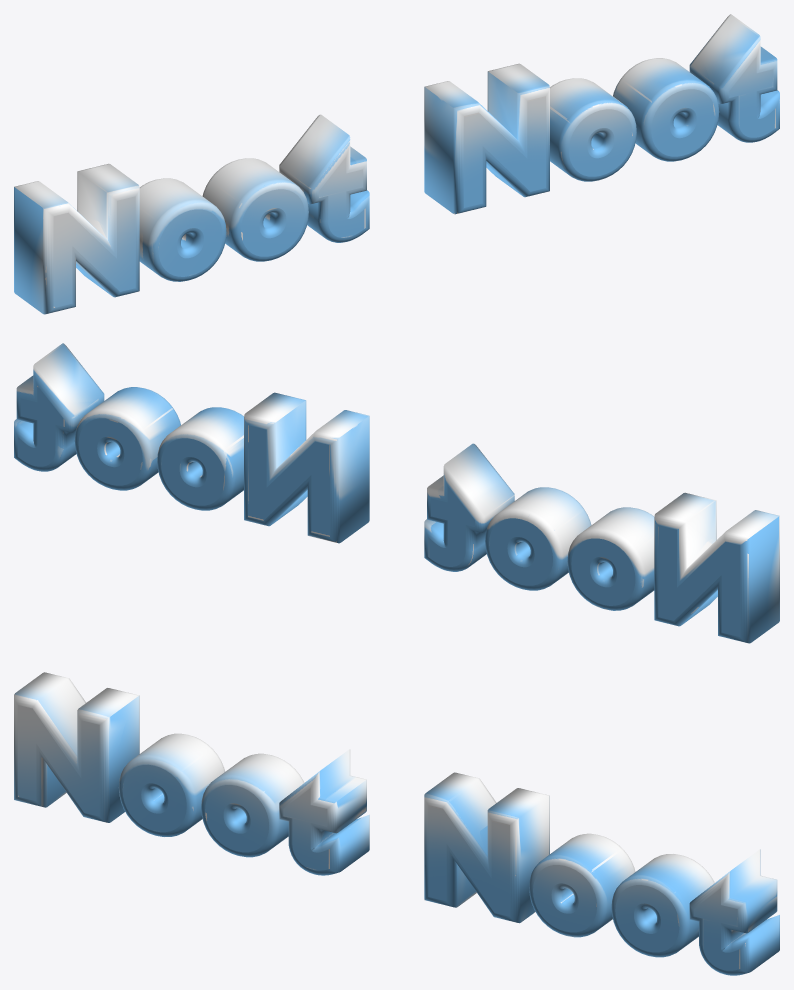
The model's file is nootnoot3d.glb.
3 renders of one model, top to bottom at view 1: azimuth 30°, elevation 25°; view 2: azimuth 150°, elevation 25°; view 3: azimuth 330°, elevation 25°, orthographic.
Visible parts, largest first — view 1: Text; view 2: Text; view 3: Text.
Part boxes in pixels (<box>): Text: <box>14,14,779,314</box>; Text: <box>14,343,779,643</box>; Text: <box>14,672,779,975</box>.
Bounding box in the file's own units: 7.59 × 1.06 × 0.64.
1 material, 1 textured.
